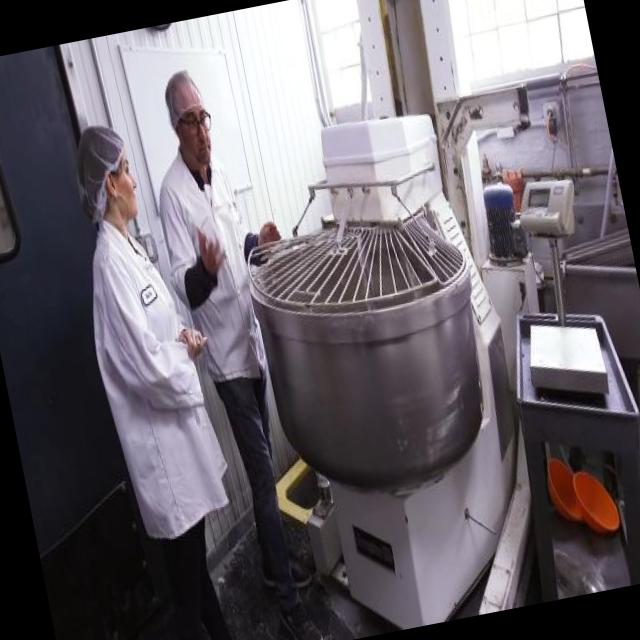hairnet: (61, 122, 132, 196), (160, 70, 210, 115)
